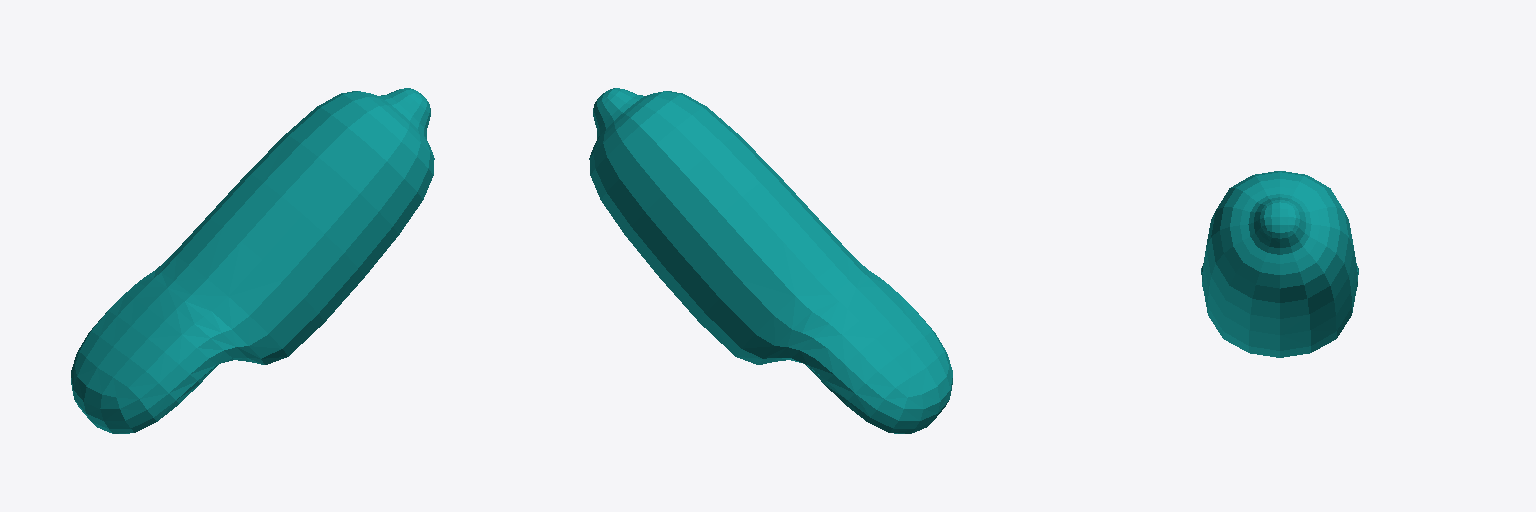
File: whistle.obj
The picture shows the model from 3 angles: view 1: azimuth 30°, elevation 25°; view 2: azimuth 150°, elevation 25°; view 3: azimuth 270°, elevation 25°; orthographic projection.
Parts seen in each view (by area): view 1: Whistle_Cube.4124; view 2: Whistle_Cube.4124; view 3: Whistle_Cube.4124.
Boxes of the visible parts, <box> form: Whistle_Cube.4124: <box>71,88,434,433</box>; Whistle_Cube.4124: <box>589,88,952,433</box>; Whistle_Cube.4124: <box>1201,171,1358,357</box>.
Size of the model in its own units: 1.93 by 1.42 by 0.7652.